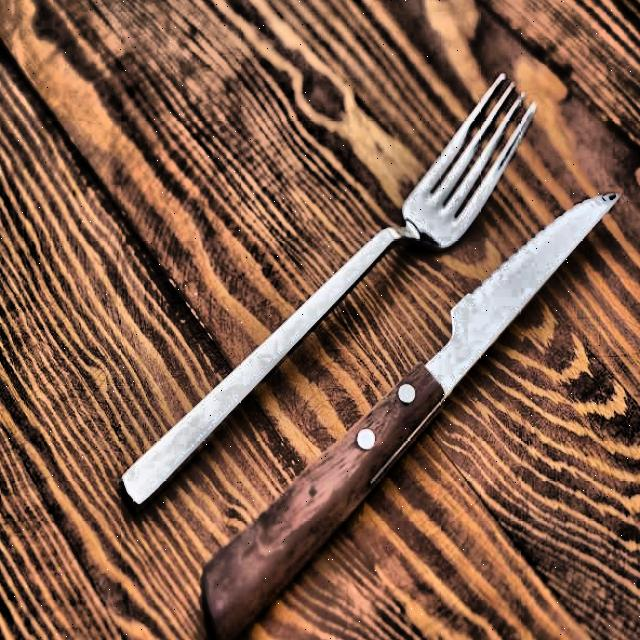knife: (197, 179, 624, 640)
